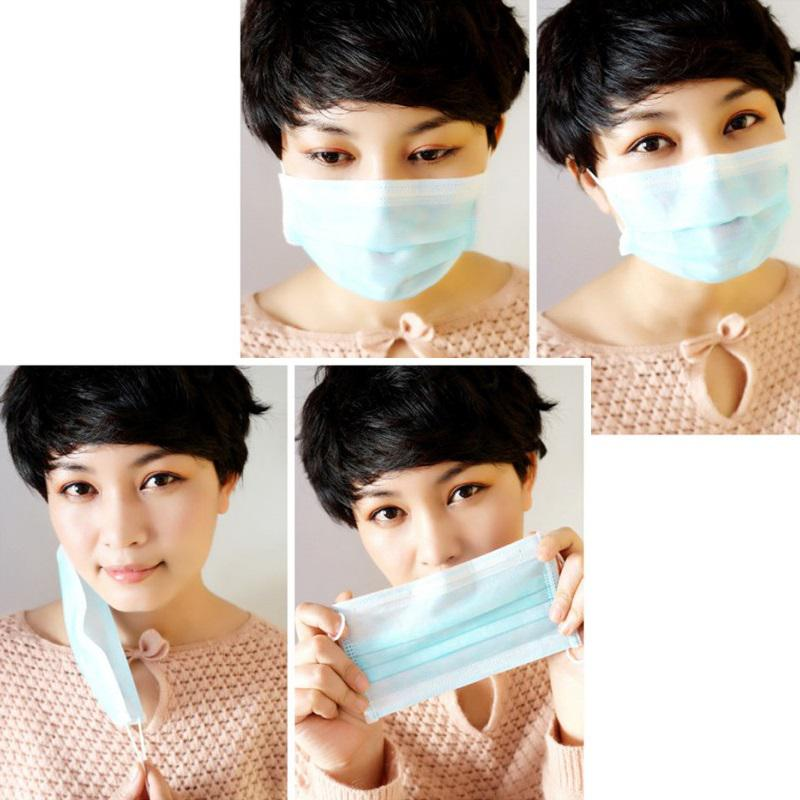NONE: (353, 450, 536, 633), (57, 441, 218, 609)
OK: (283, 108, 479, 304), (596, 90, 787, 281)
